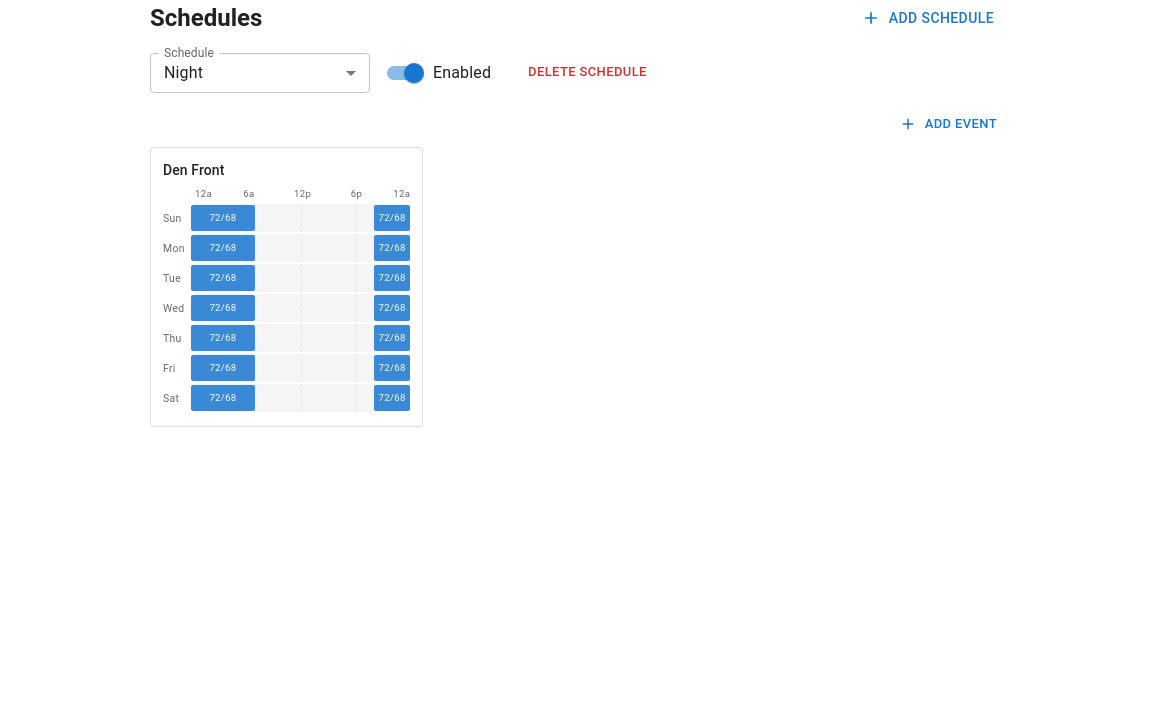
SchedulesPage › deletes the selected schedule after confirmation
Check: the text "Sun" is shown, box left=163, top=212, right=182, bottom=224
Click the button "Delete schedule" at point(587, 72), box left=523, top=57, right=652, bottom=88
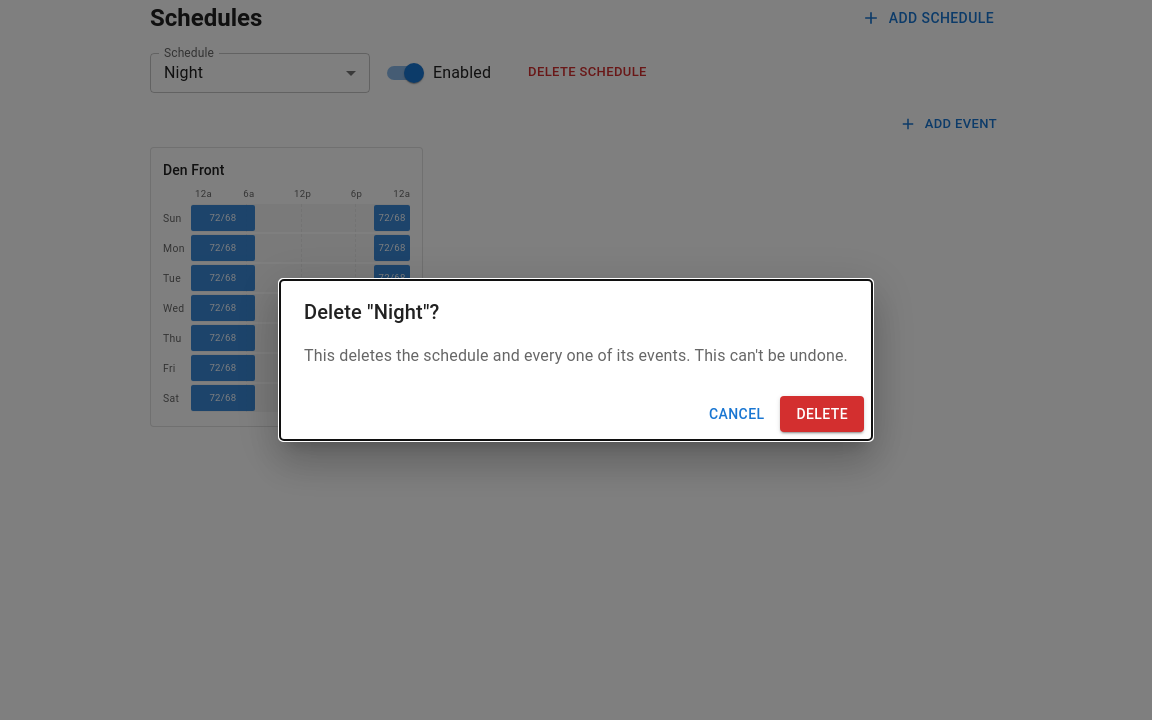
Check: the heading "Delete \"Night\"?" is shown, box left=304, top=300, right=439, bottom=324
Click the button "Delete" at point(822, 414), box left=780, top=396, right=864, bottom=432
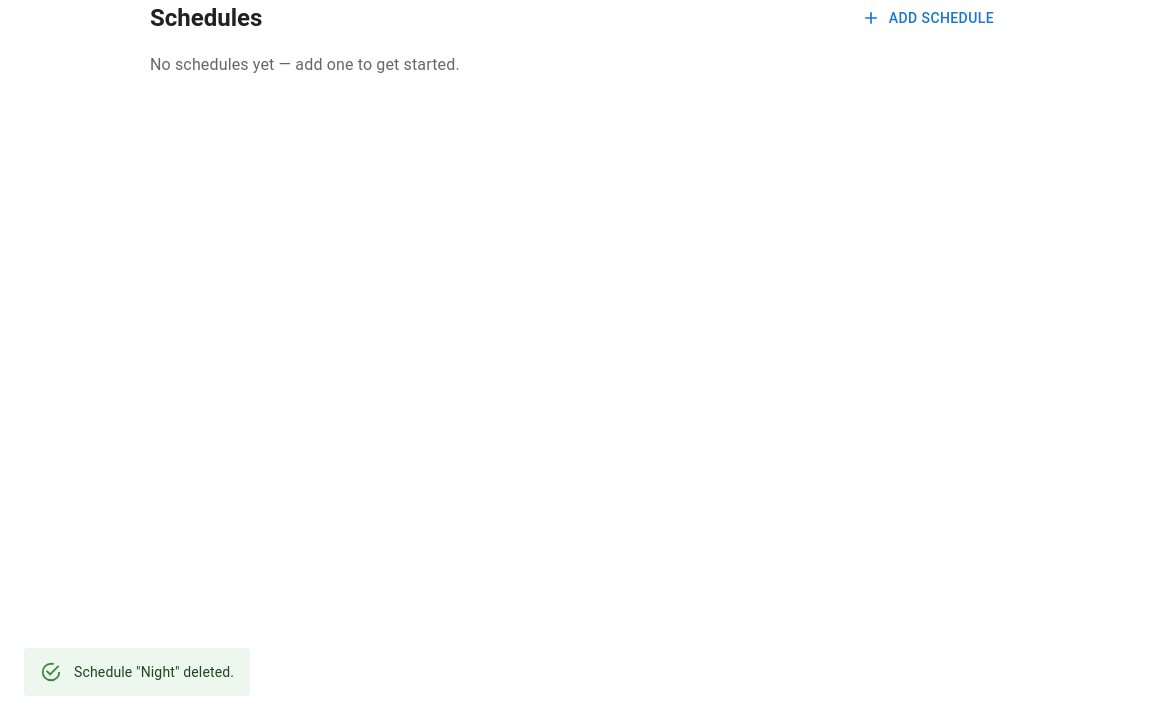
Check: the text "No schedules yet — add one to get started." is shown, box left=150, top=54, right=460, bottom=74
